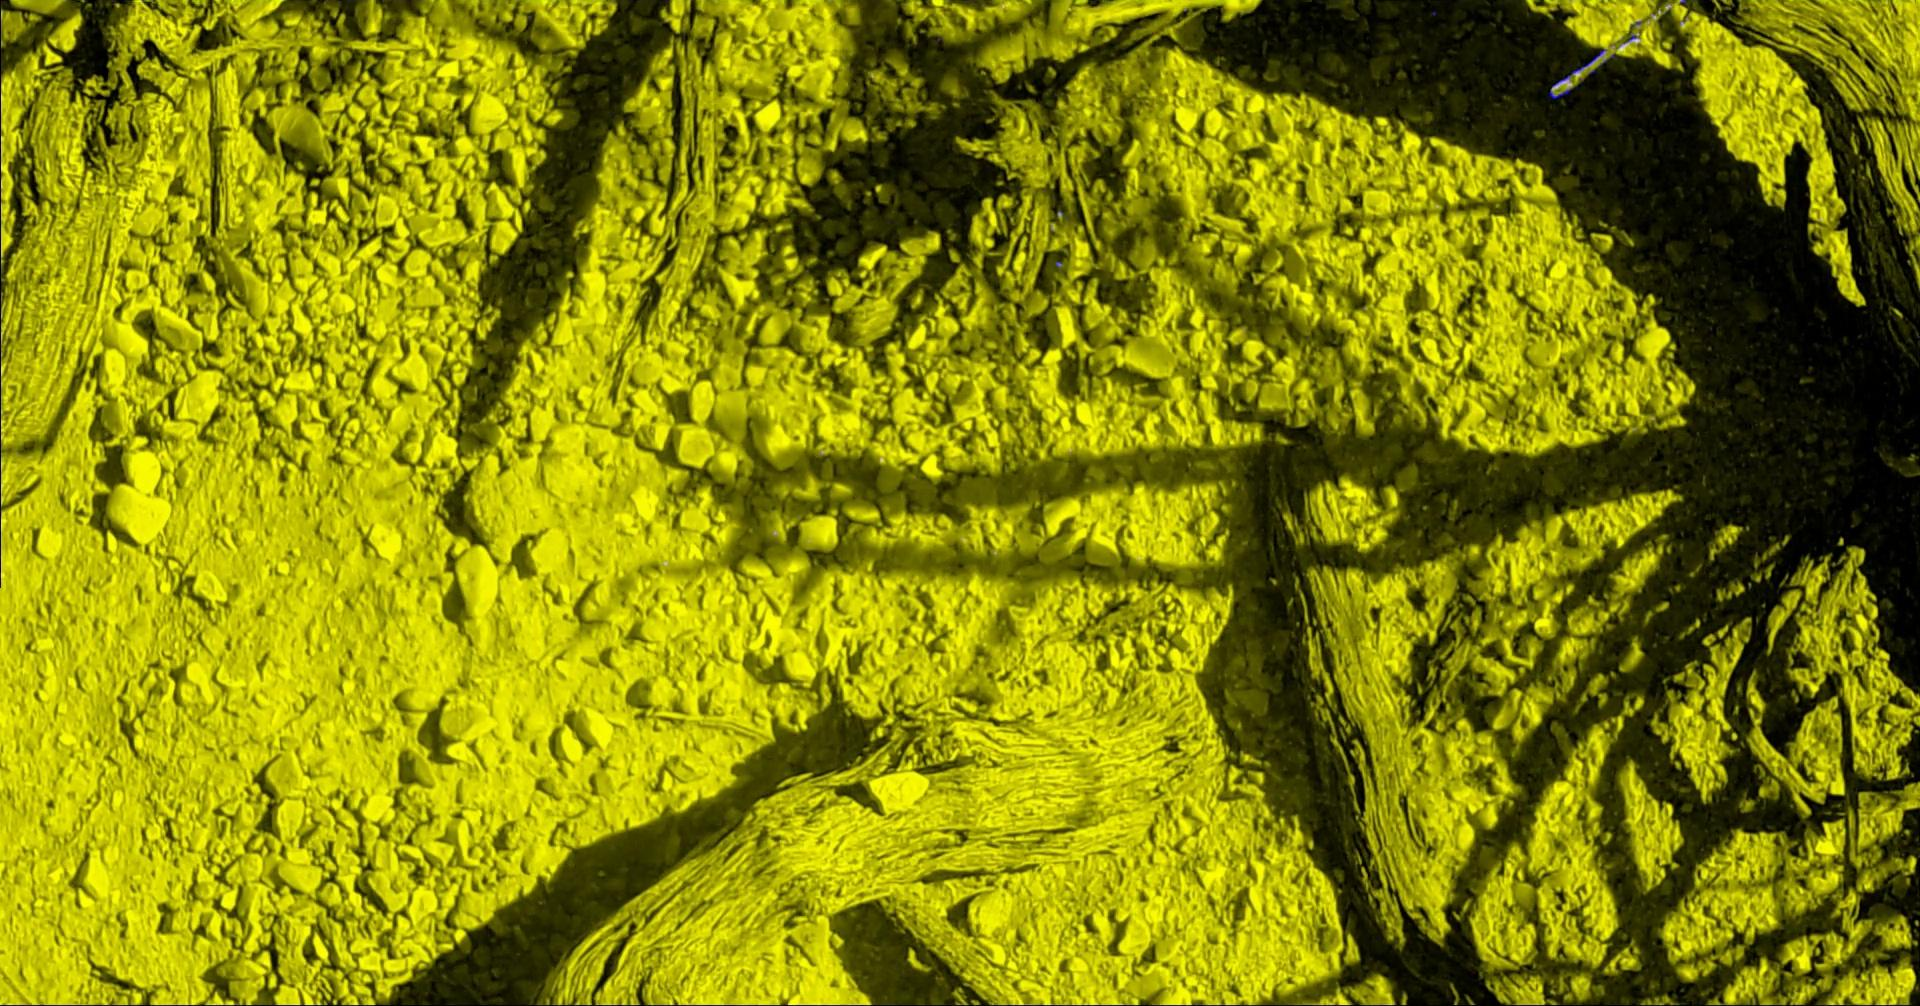ant: (1553, 48, 1608, 86), (1550, 88, 1572, 99)
